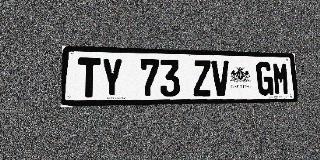3: (160, 59, 180, 97)
7: (139, 59, 160, 97)
G: (256, 62, 274, 95)
M: (272, 62, 290, 95)
T: (77, 57, 100, 98)
V: (211, 60, 230, 96)
Y: (101, 58, 123, 97)
Z: (193, 60, 212, 96)
